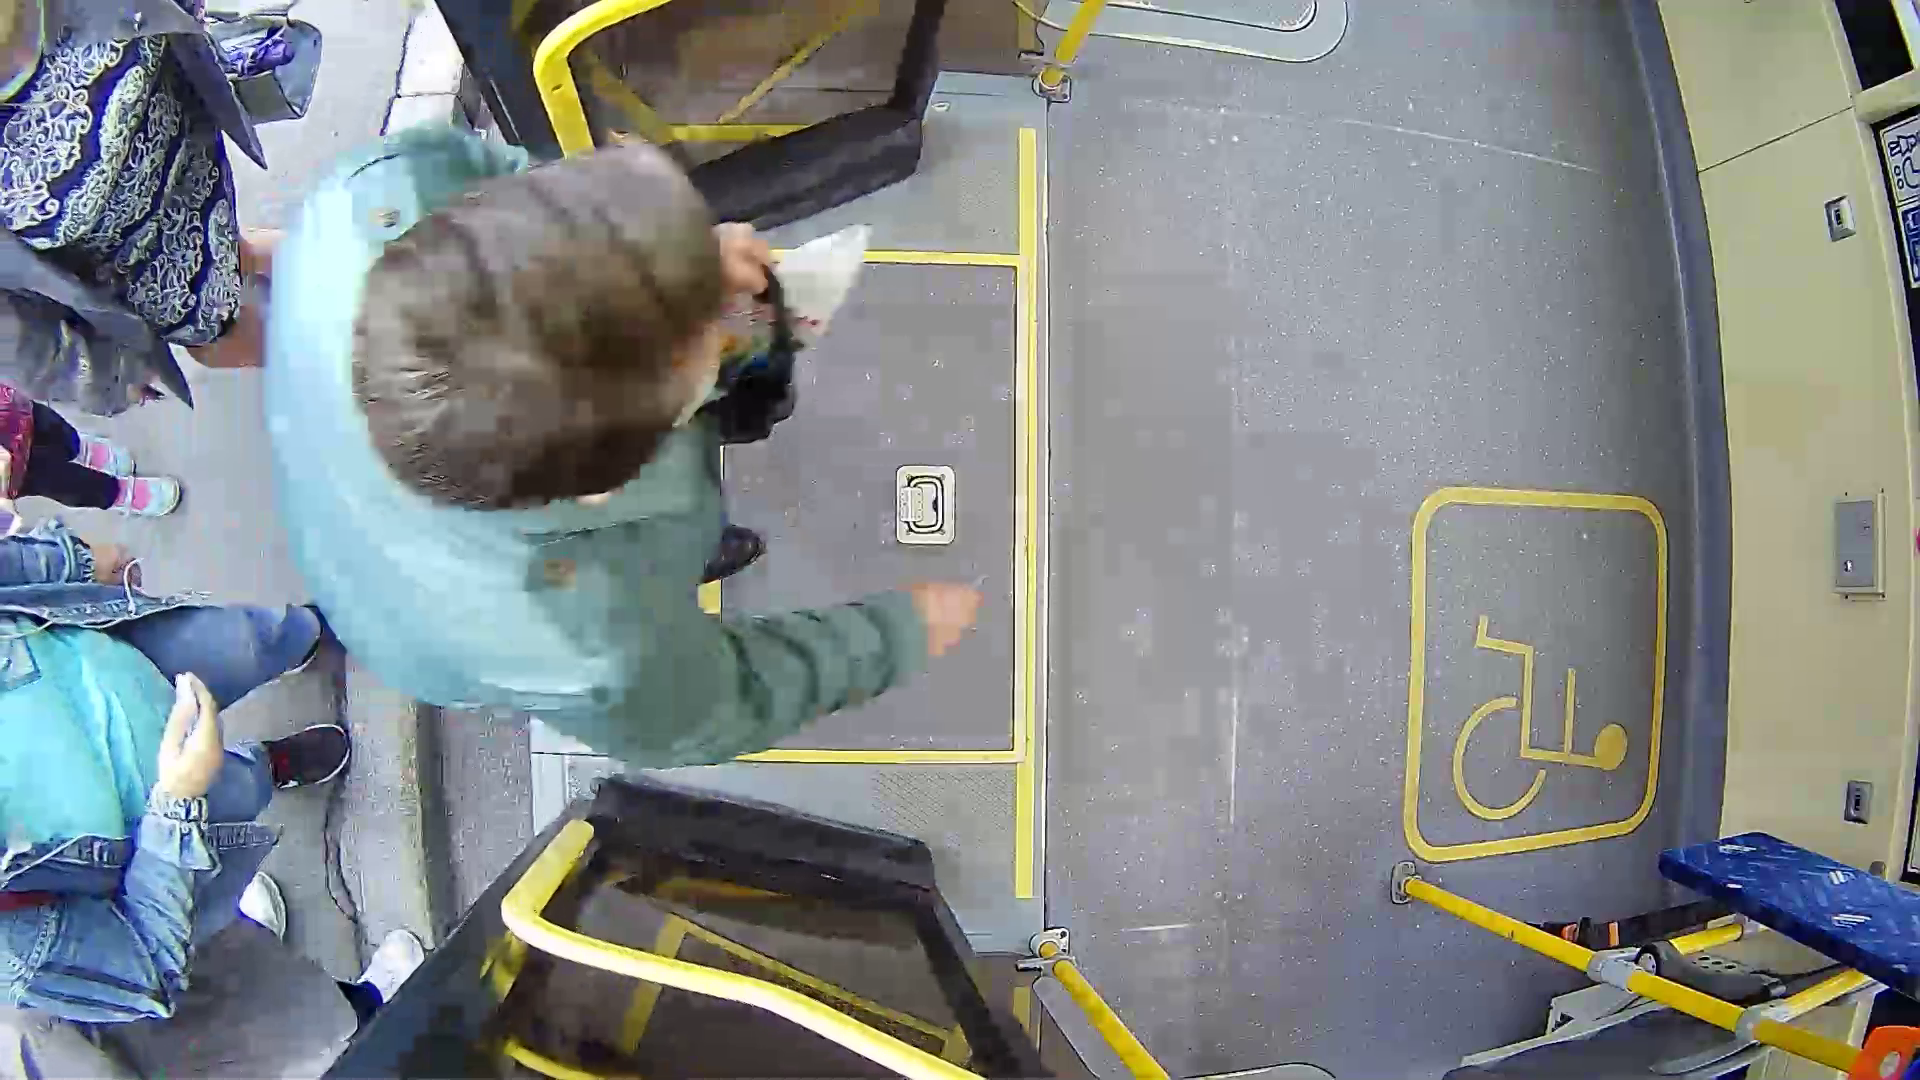person: (251, 138, 1007, 756)
